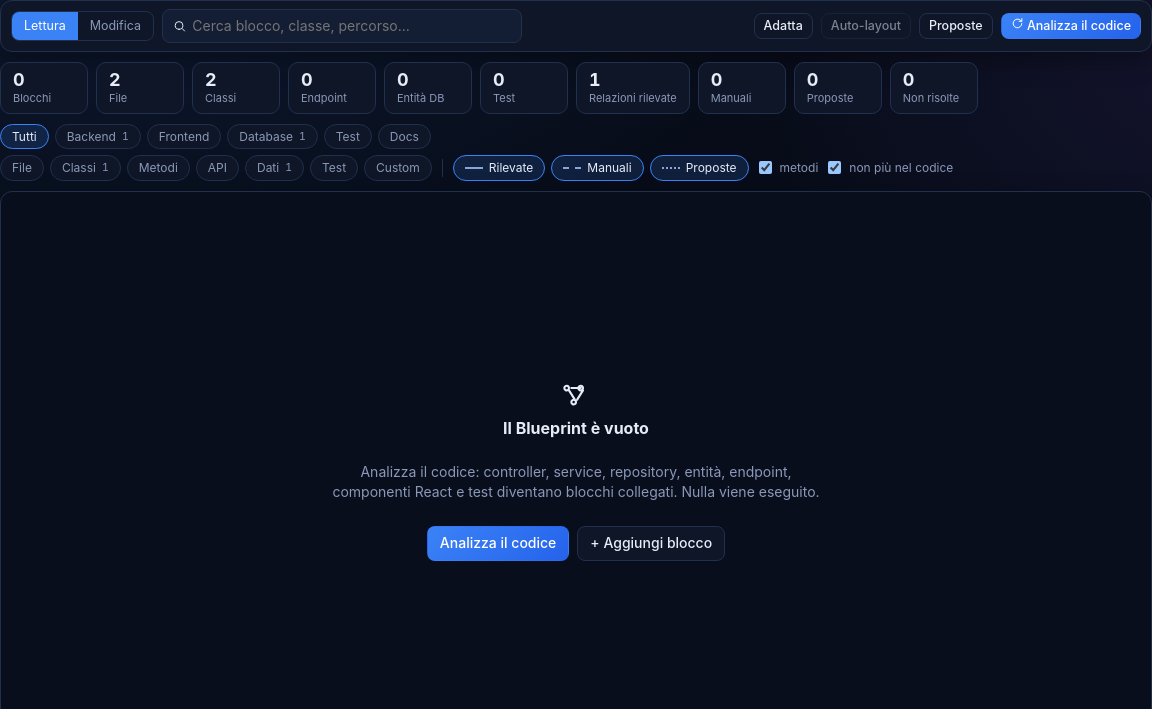
Scenario: BlueprintView › an empty Blueprint offers the scan, and the scan is a POST
The image size is (1152, 709).
Expected: the heading "Il Blueprint è vuoto" is shown, [503, 419, 649, 438]
Step 1. Click the 1st button "Analizza il codice" → (1071, 26), box [1001, 13, 1141, 39]
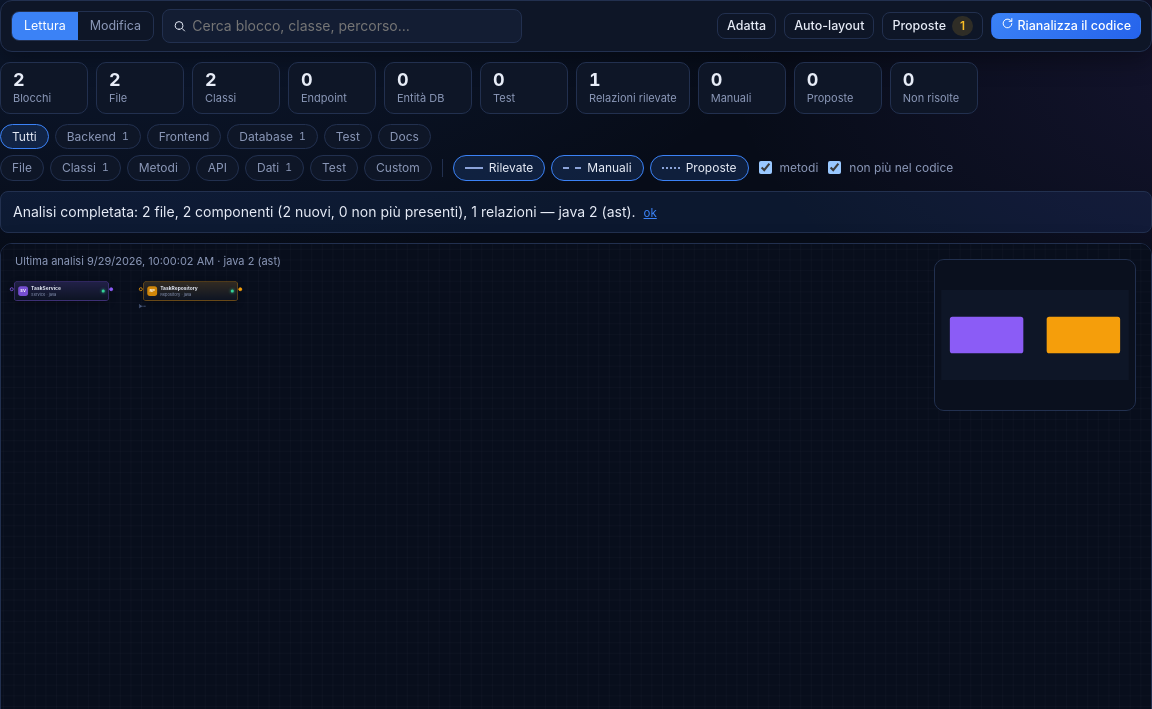
Result: the text "Analisi completata: 2 file, 2 componenti" is shown at [13, 203, 636, 220]
